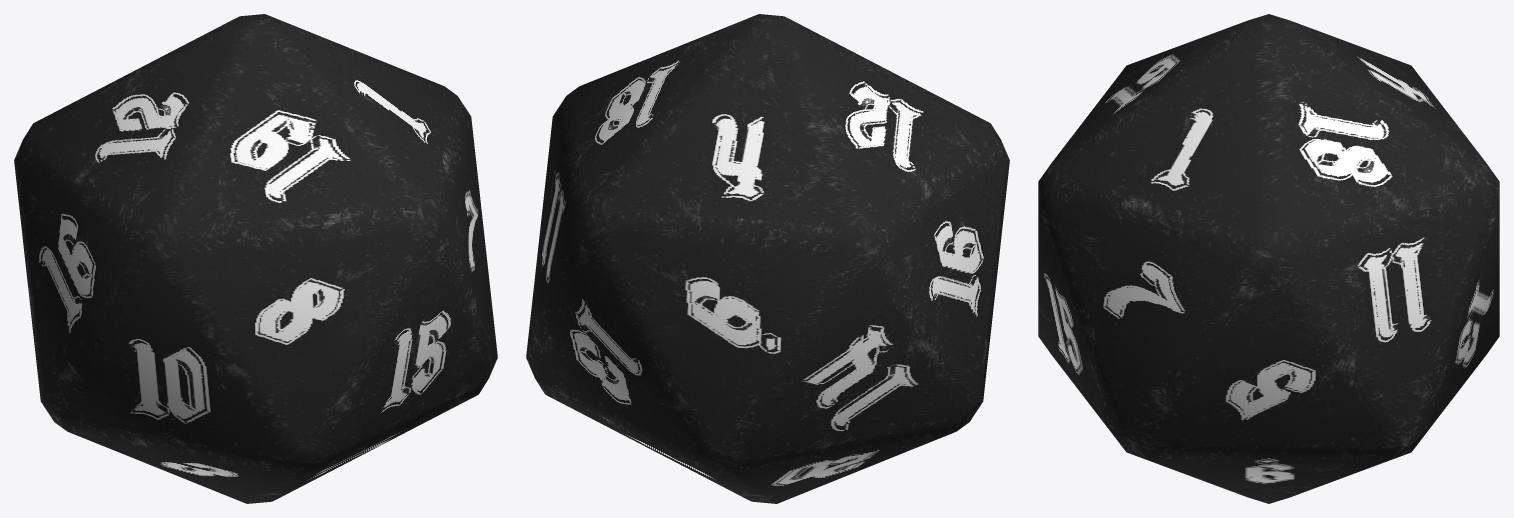
Rendered from dice_20.glb.
The picture shows the model from 3 angles, left to right: view 1: azimuth 30°, elevation 25°; view 2: azimuth 150°, elevation 25°; view 3: azimuth 270°, elevation 25°; orthographic projection.
Parts seen in each view (by area): view 1: LowPoliUnwrapped; view 2: LowPoliUnwrapped; view 3: LowPoliUnwrapped.
Boxes of the visible parts, box(x1,y1,x2,y2) form: LowPoliUnwrapped: box(14, 14, 497, 503); LowPoliUnwrapped: box(526, 14, 1009, 503); LowPoliUnwrapped: box(1038, 14, 1499, 503).
Size of the model in its own units: 0.2388 by 0.2561 by 0.2271.
Materials: 1 (1 with a texture image).
